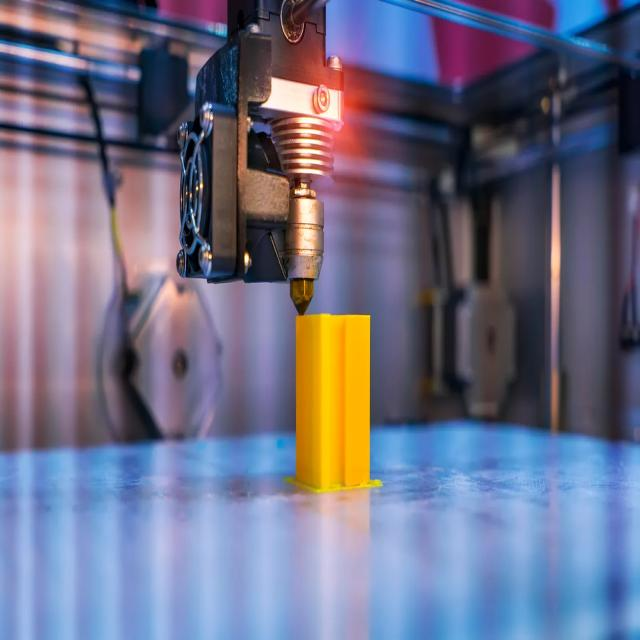Without deffect: (291, 310, 379, 494)
